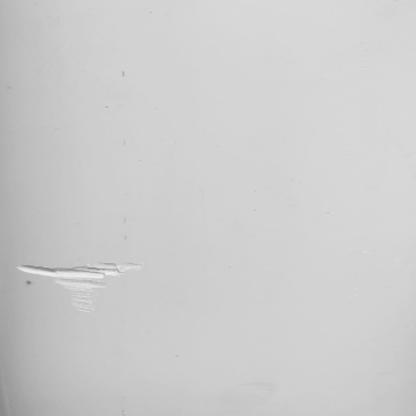sunshang: (17, 258, 146, 310)
